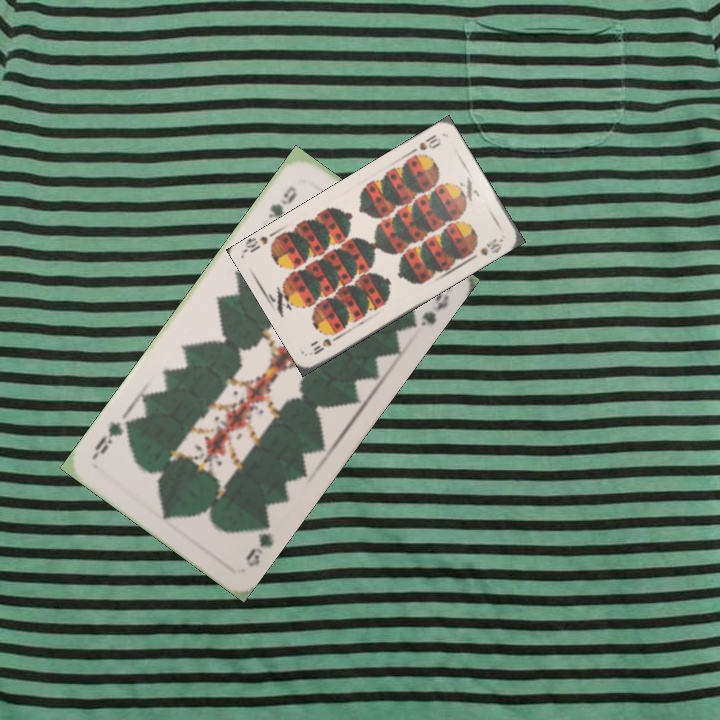G9: (241, 514, 276, 570), (264, 181, 300, 231)
S10: (405, 130, 444, 160), (309, 331, 343, 357)
